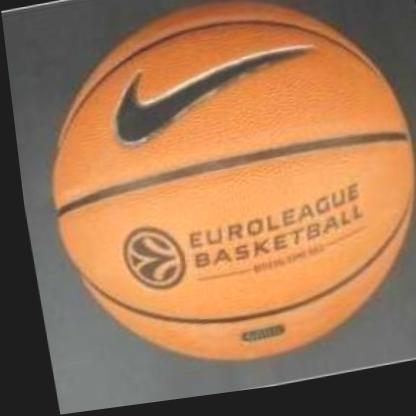basketball: (12, 0, 416, 405)
